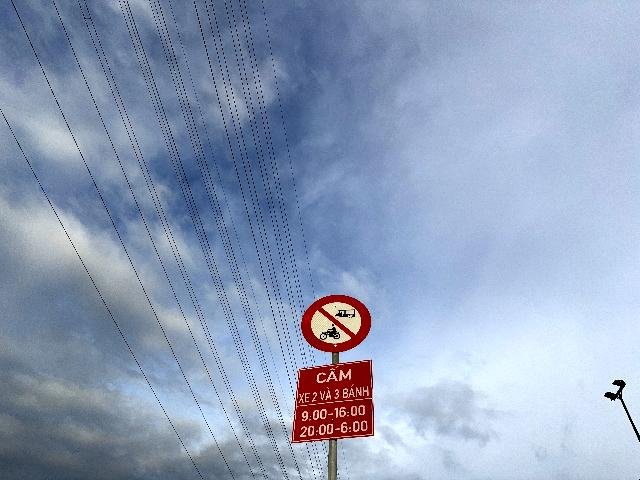cam-xe-2-banh-3-banh: (301, 294, 371, 353)
